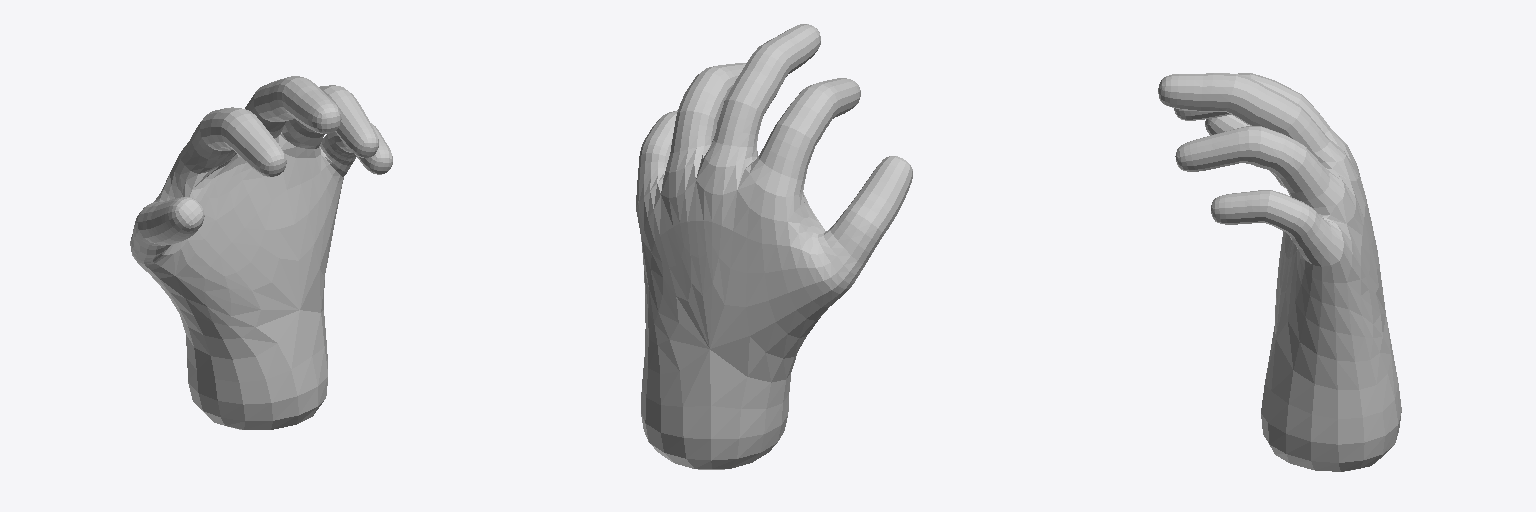
Rendered from handanimatsion27.obj.
3 renders of one model, left to right at view 1: azimuth 30°, elevation 25°; view 2: azimuth 150°, elevation 25°; view 3: azimuth 270°, elevation 25°, orthographic.
Visible parts, largest first — view 1: Cube; view 2: Cube; view 3: Cube.
Part boxes in pixels (x1,y1,x2,y2): Cube: (130, 76, 392, 429); Cube: (636, 24, 912, 469); Cube: (1158, 73, 1401, 471).
Bounding box in the file's own units: 3.37 × 5.25 × 3.05.